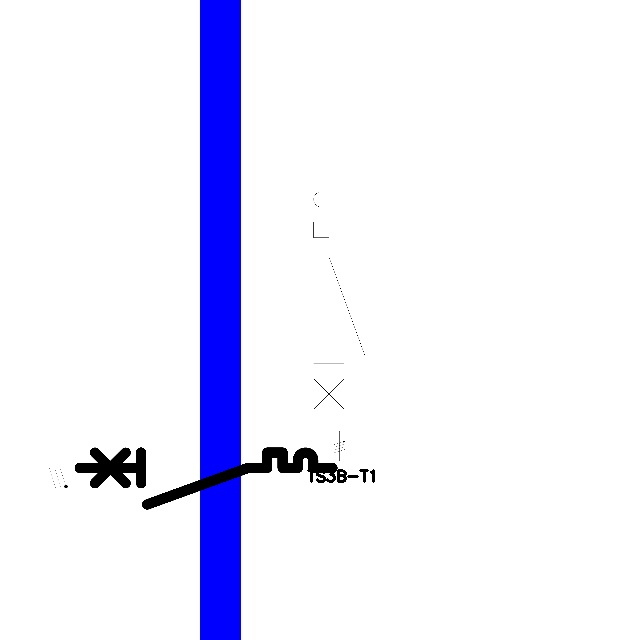interruptor_termomagnetico: (73, 446, 339, 511), (307, 166, 372, 431)
